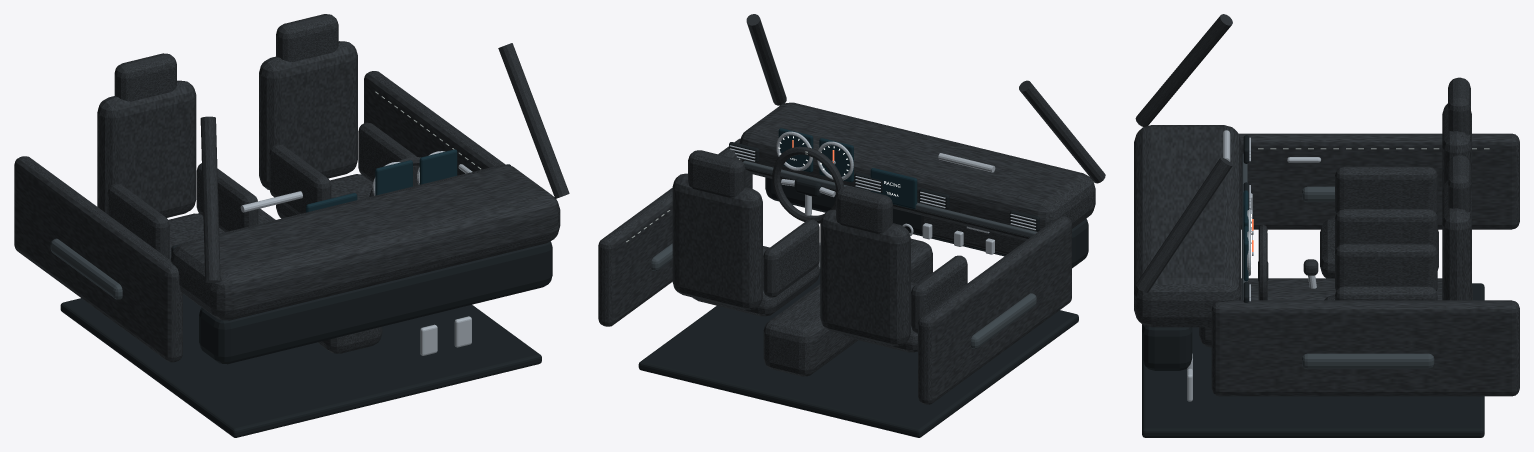
File: armored.glb
The picture shows the model from 3 angles, left to right: view 1: azimuth 30°, elevation 25°; view 2: azimuth 150°, elevation 25°; view 3: azimuth 270°, elevation 25°; orthographic projection. The views are drawn at different scales.
Parts seen in each view (by area): view 1: Cabin Grained charcoal leather.003, Cabin Soft black polymer.003, Cabin Display glass.003, Cabin Brushed aluminium.003, Cabin Cabin trim.003; view 2: Cabin Grained charcoal leather.003, Cabin Soft black polymer.003, Cabin Cabin trim.003, Cabin Display glass.003, Cabin Brushed aluminium.003, Leather steering rim; view 3: Cabin Grained charcoal leather.003, Cabin Soft black polymer.003, Cabin Cabin trim.003, Cabin Brushed aluminium.003, Leather steering rim, Cabin Display glass.003.
Boxes of the visible parts, x1,y1,x2,y2 form: Cabin Grained charcoal leather.003: [14, 14, 569, 362]; Cabin Soft black polymer.003: [60, 164, 552, 437]; Cabin Display glass.003: [306, 149, 457, 212]; Cabin Brushed aluminium.003: [240, 151, 472, 355]; Cabin Cabin trim.003: [50, 238, 122, 299]; Cabin Grained charcoal leather.003: [598, 14, 1105, 404]; Cabin Soft black polymer.003: [638, 142, 1088, 437]; Cabin Cabin trim.003: [651, 160, 1037, 348]; Cabin Display glass.003: [778, 128, 917, 209]; Cabin Brushed aluminium.003: [729, 131, 1036, 268]; Leather steering rim: [772, 146, 843, 223]; Cabin Grained charcoal leather.003: [1134, 14, 1519, 396]; Cabin Soft black polymer.003: [1142, 135, 1484, 437]; Cabin Cabin trim.003: [1242, 153, 1434, 369]; Cabin Brushed aluminium.003: [1187, 130, 1320, 401]; Leather steering rim: [1258, 224, 1267, 300]; Cabin Display glass.003: [1243, 190, 1248, 281].
Bounding box in the file's own units: 1.88 × 1.37 × 1.69.
Materials: 8 (1 with a texture image).
